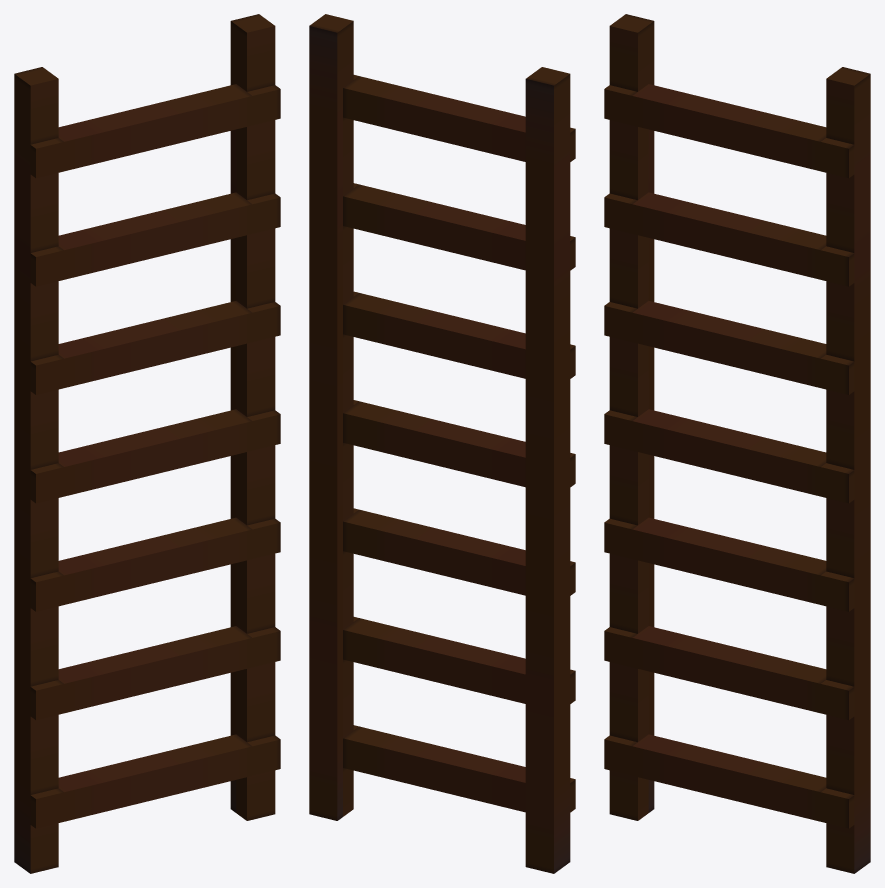
Rendered from staircase-1.glb.
3 views of the same model, side by side, from view 1: azimuth 30°, elevation 25°; view 2: azimuth 150°, elevation 25°; view 3: azimuth 330°, elevation 25° (orthographic).
Parts seen in each view (by area): view 1: Staircase_1; view 2: Staircase_1; view 3: Staircase_1.
Part boxes in pixels (box(x1,y1,x2,y2)): Staircase_1: box(14, 14, 280, 873); Staircase_1: box(309, 14, 575, 873); Staircase_1: box(604, 14, 870, 873).
Bounding box in the file's own units: 19.5 × 60 × 3.
1 material, 1 textured.
